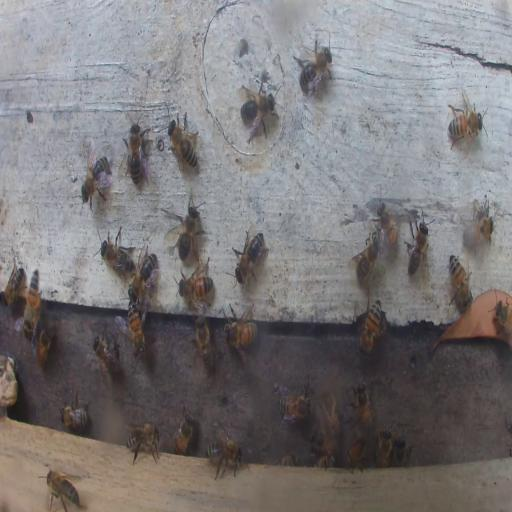bee: (166, 188, 204, 258), (294, 38, 332, 100), (231, 227, 269, 285), (237, 82, 280, 132), (120, 117, 150, 186), (80, 146, 111, 212), (167, 111, 199, 174), (205, 433, 246, 478), (91, 327, 120, 387), (98, 226, 132, 277), (447, 98, 486, 142), (44, 468, 82, 511), (404, 216, 430, 278), (350, 230, 380, 282), (125, 422, 161, 464), (130, 249, 157, 302), (358, 301, 384, 355), (24, 265, 42, 342), (276, 384, 312, 422), (449, 255, 473, 309), (128, 302, 148, 364), (179, 272, 215, 306), (1, 262, 25, 306), (224, 318, 259, 348), (173, 409, 195, 455), (352, 380, 373, 428), (378, 201, 398, 251), (196, 314, 213, 372), (321, 389, 340, 438), (60, 402, 90, 433), (465, 213, 494, 244), (491, 300, 511, 341), (308, 428, 334, 458), (376, 426, 393, 466), (37, 326, 53, 368), (348, 436, 366, 472), (393, 437, 413, 466), (310, 446, 335, 467)
